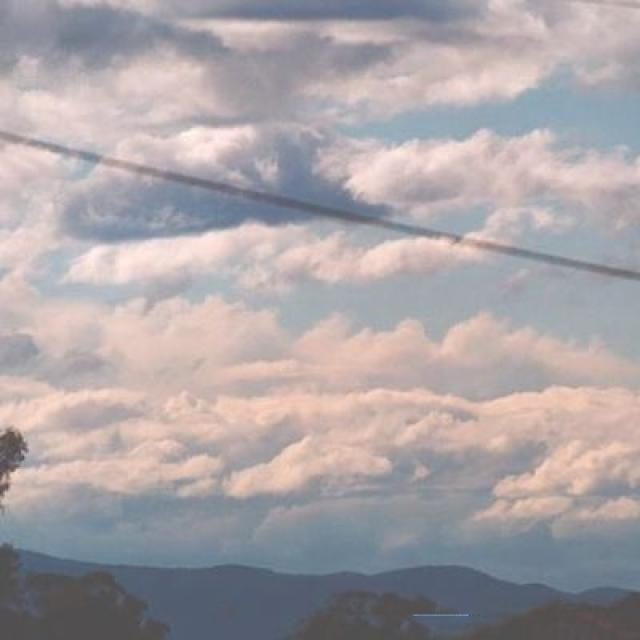Ci: (1, 202, 640, 498)
